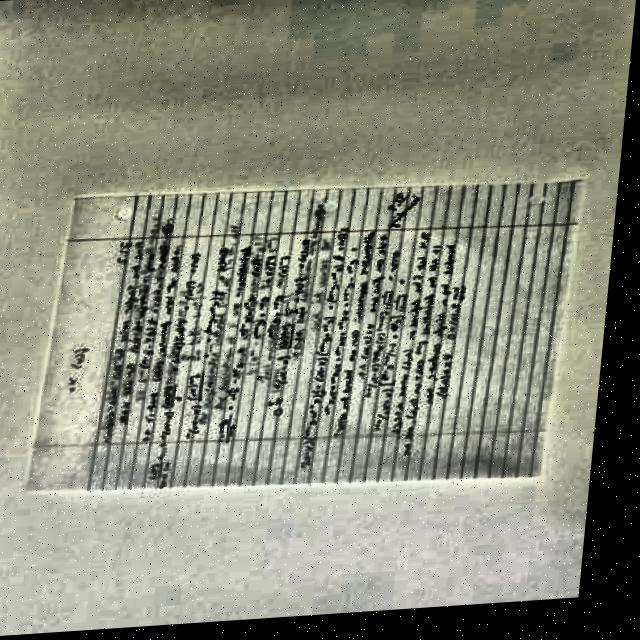paper: (30, 158, 586, 510)
